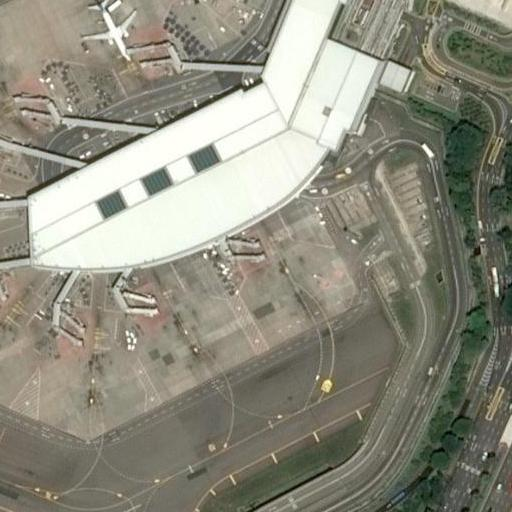Aircraft: (83, 0, 137, 63)
